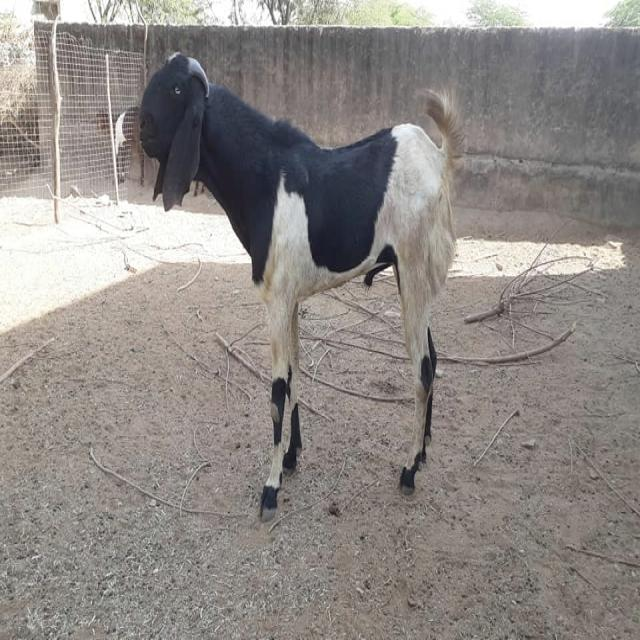Goat: (137, 50, 466, 521), (96, 104, 150, 186)
